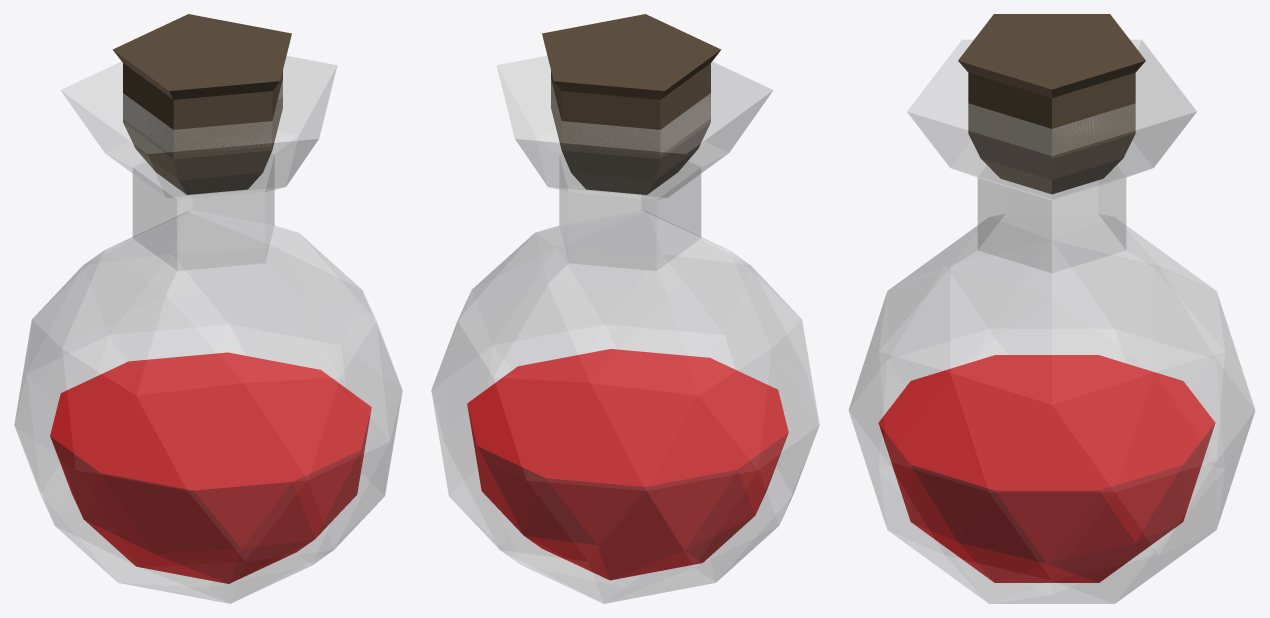
The model's file is RedPotion.fbx.
3 renders of one model, left to right at view 1: azimuth 30°, elevation 25°; view 2: azimuth 150°, elevation 25°; view 3: azimuth 270°, elevation 25°, orthographic. The views are drawn at different scales.
Visible parts, largest first — view 1: PotionBottle, Potion, Coke; view 2: PotionBottle, Potion, Coke; view 3: PotionBottle, Potion, Coke.
Part boxes in pixels (left/top/right/bottom): PotionBottle: left=14, top=56, right=402, bottom=603; Potion: left=50, top=352, right=371, bottom=583; Coke: left=112, top=14, right=291, bottom=194; PotionBottle: left=431, top=56, right=819, bottom=603; Potion: left=467, top=349, right=788, bottom=580; Coke: left=542, top=14, right=721, bottom=194; PotionBottle: left=848, top=39, right=1255, bottom=603; Potion: left=878, top=355, right=1215, bottom=582; Coke: left=958, top=14, right=1145, bottom=194.
Bounding box in the file's own units: 190 × 297 × 200.
